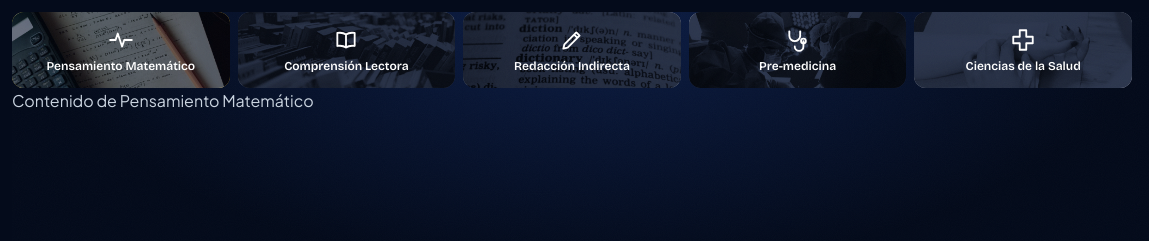
SelectorAreas › click en una pestaña cambia la selección y hace visible su panel
Step 1. Click the tab "Pre-medicina" → [798, 50], box top-left (689, 12), bottom-right (906, 88)
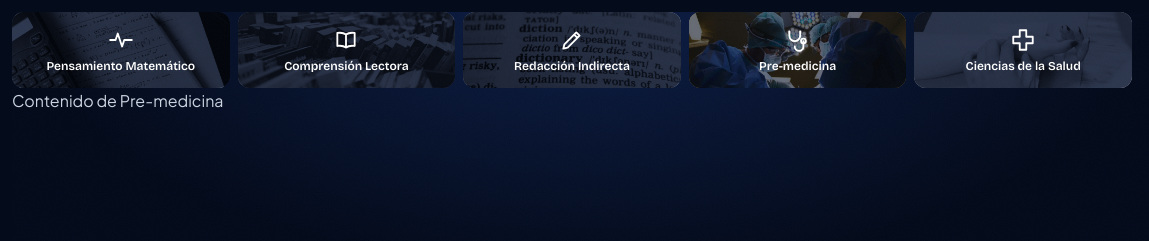
Expected: the panel "Contenido de Pre-medicina" is shown, top-left (12, 90), bottom-right (224, 111)
